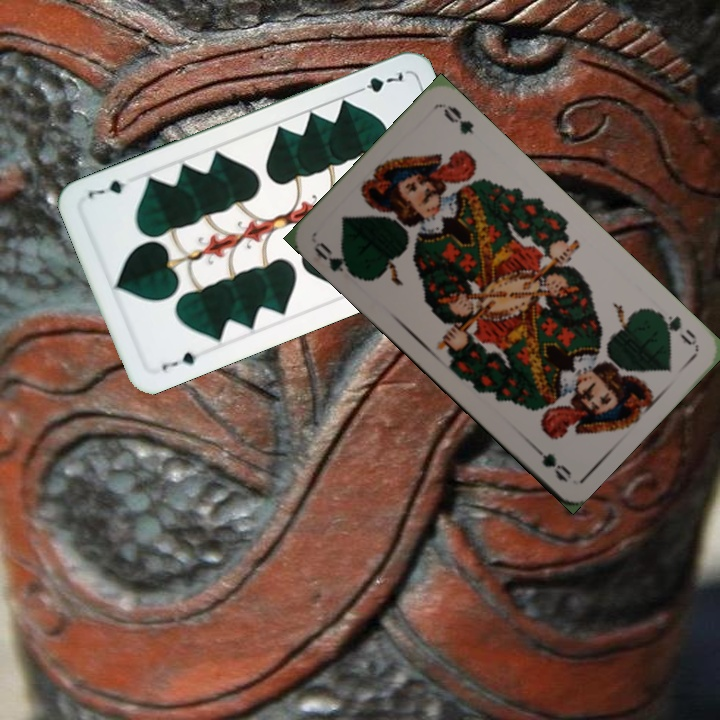G7: (350, 67, 406, 97), (158, 347, 199, 374)
GO: (310, 238, 361, 281), (650, 306, 700, 348)
